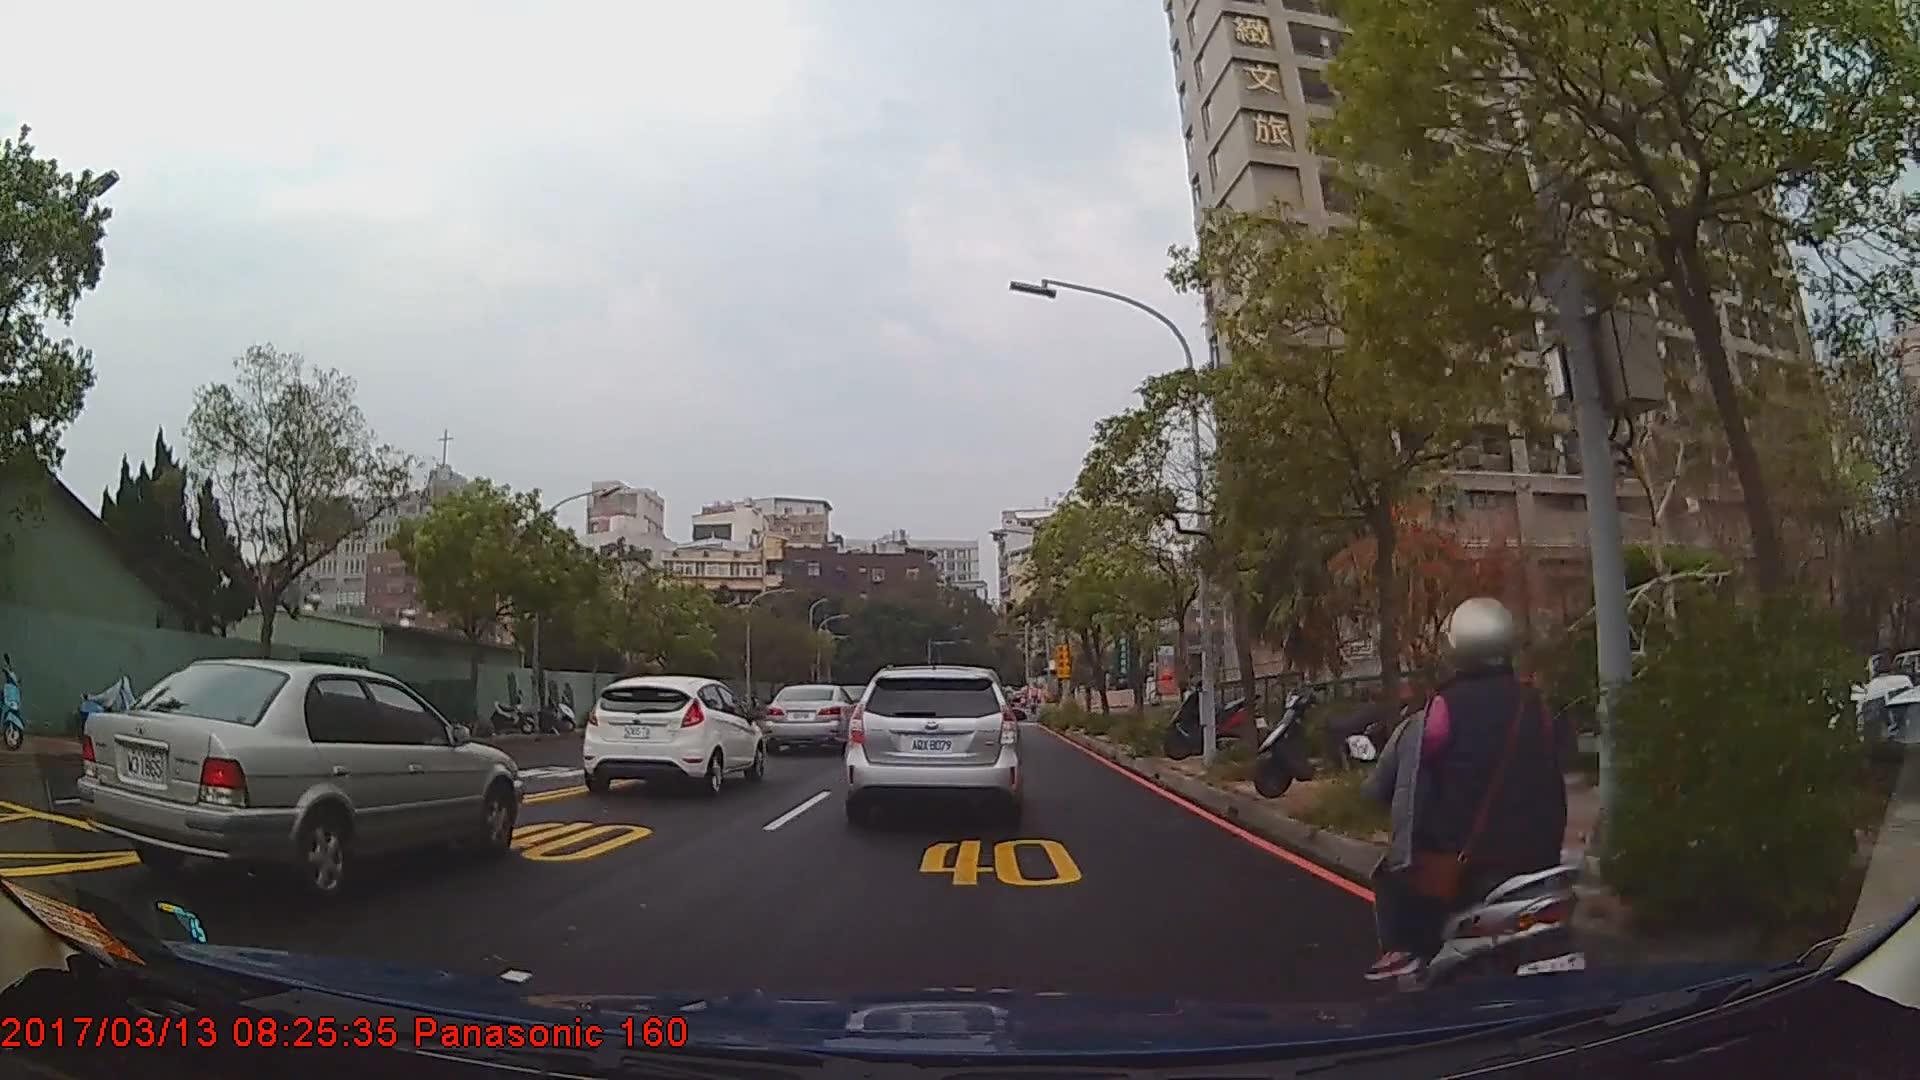rider: (1364, 597, 1587, 1036)
vehicle: (72, 657, 525, 897), (842, 662, 1020, 822), (580, 674, 765, 795), (766, 683, 861, 753)
